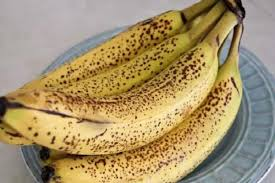banana: (1, 1, 246, 183)
